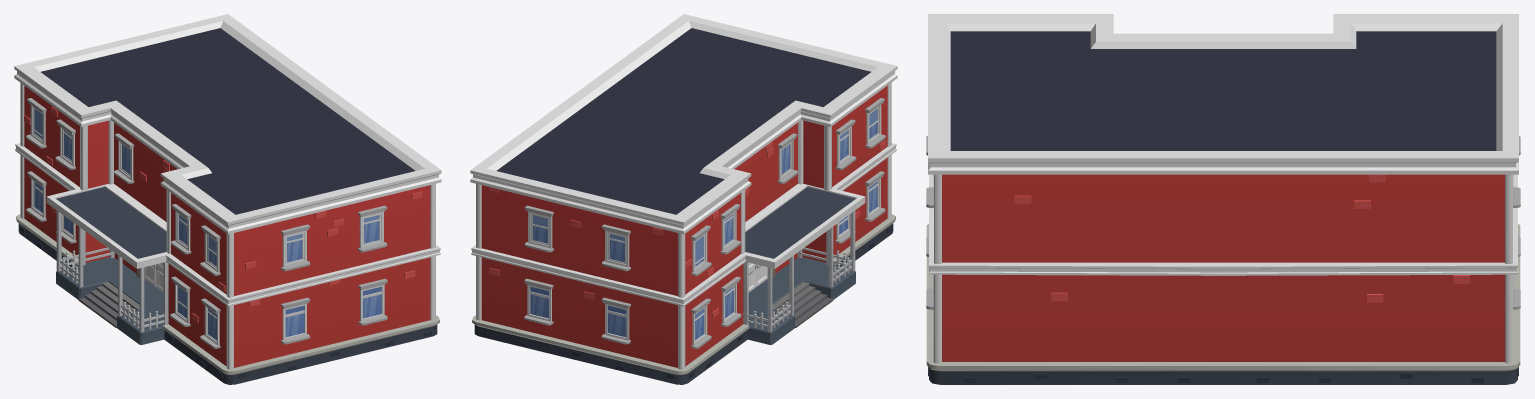
The model's file is Building_5_1_C.fbx.
3 renders of one model, left to right at view 1: azimuth 30°, elevation 25°; view 2: azimuth 150°, elevation 25°; view 3: azimuth 270°, elevation 25°, orthographic. The views are drawn at different scales.
Parts seen in each view (by area): view 1: Building_5_1_C; view 2: Building_5_1_C; view 3: Building_5_1_C.
Part boxes in pixels (x1,y1,x2,y2): Building_5_1_C: (14,14,441,384); Building_5_1_C: (470,14,897,384); Building_5_1_C: (926,14,1520,384).
Size of the model in its own units: 1251 by 804 by 1908.
